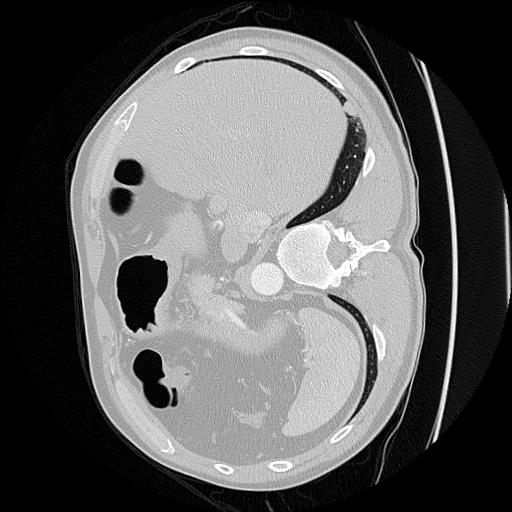nodule: (340, 97, 360, 117)
